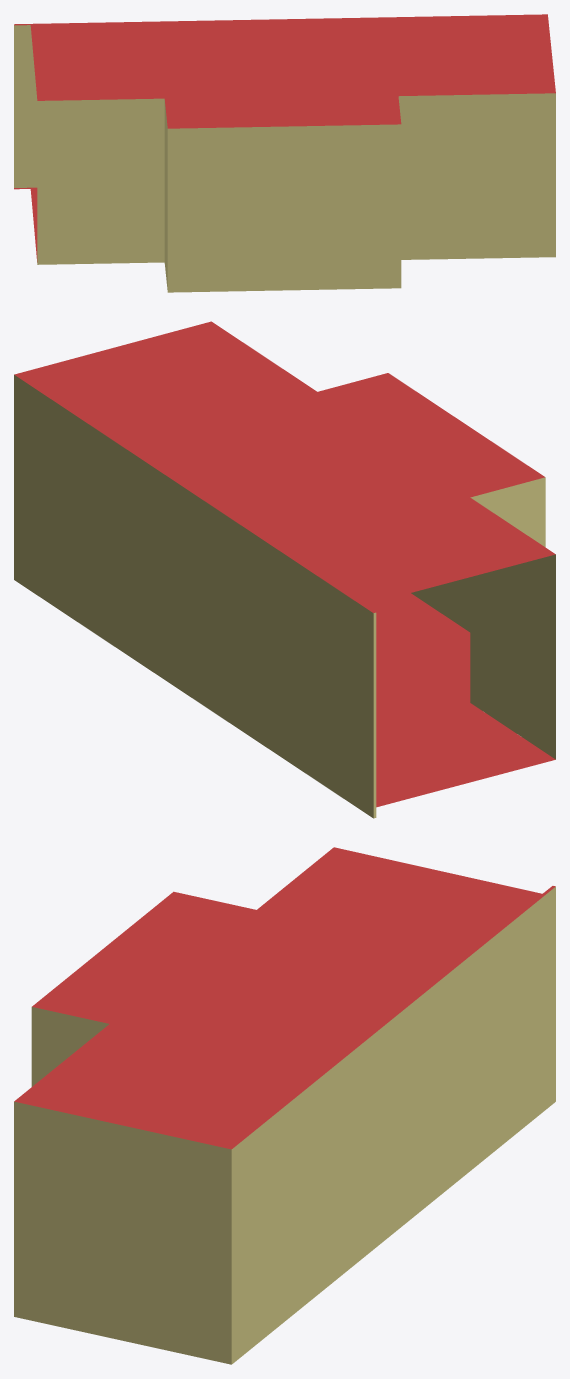
3 views of the same model, one above another, from view 1: azimuth 30°, elevation 25°; view 2: azimuth 150°, elevation 25°; view 3: azimuth 270°, elevation 25° (orthographic). The views are drawn at different scales.
Visible parts, largest first — view 1: group_4, group_3, group_5; view 2: group_4, group_3, group_5; view 3: group_4, group_3.
Boxes of the visible parts, left/top/right/bottom form: group_4: left=14, top=25, right=555, bottom=292; group_3: left=14, top=14, right=555, bottom=128; group_5: left=14, top=187, right=37, bottom=262; group_4: left=14, top=375, right=555, bottom=818; group_3: left=14, top=321, right=555, bottom=612; group_5: left=366, top=593, right=555, bottom=807; group_4: left=14, top=886, right=555, bottom=1364; group_3: left=14, top=847, right=555, bottom=1149.
Size of the model in its own units: 17.15 by 13 by 5.7.
